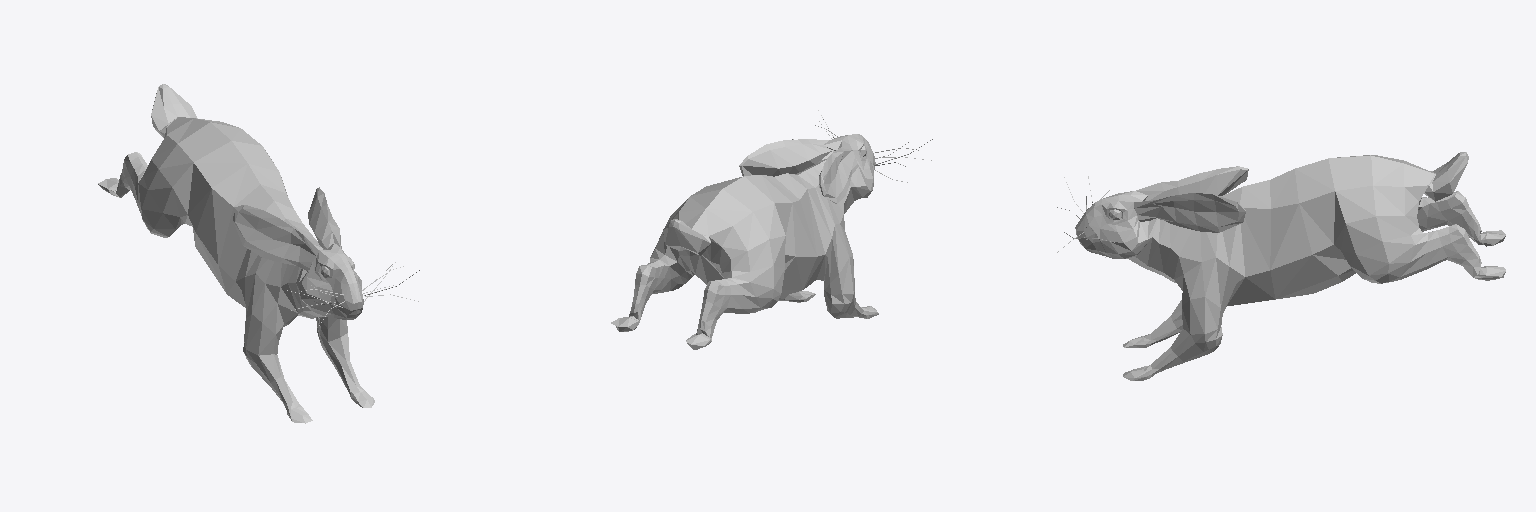
Rendered from rabbit_10.obj.
3 views of the same model, side by side, from view 1: azimuth 30°, elevation 25°; view 2: azimuth 150°, elevation 25°; view 3: azimuth 270°, elevation 25° (orthographic).
Visible parts, largest first — view 1: Rabbit_Cylinder; view 2: Rabbit_Cylinder; view 3: Rabbit_Cylinder.
Part boxes in pixels (x1,y1,x2,y2): Rabbit_Cylinder: (98, 84, 419, 423); Rabbit_Cylinder: (611, 110, 932, 349); Rabbit_Cylinder: (1057, 152, 1505, 380).
Bounding box in the file's own units: 7 × 11.56 × 22.85.